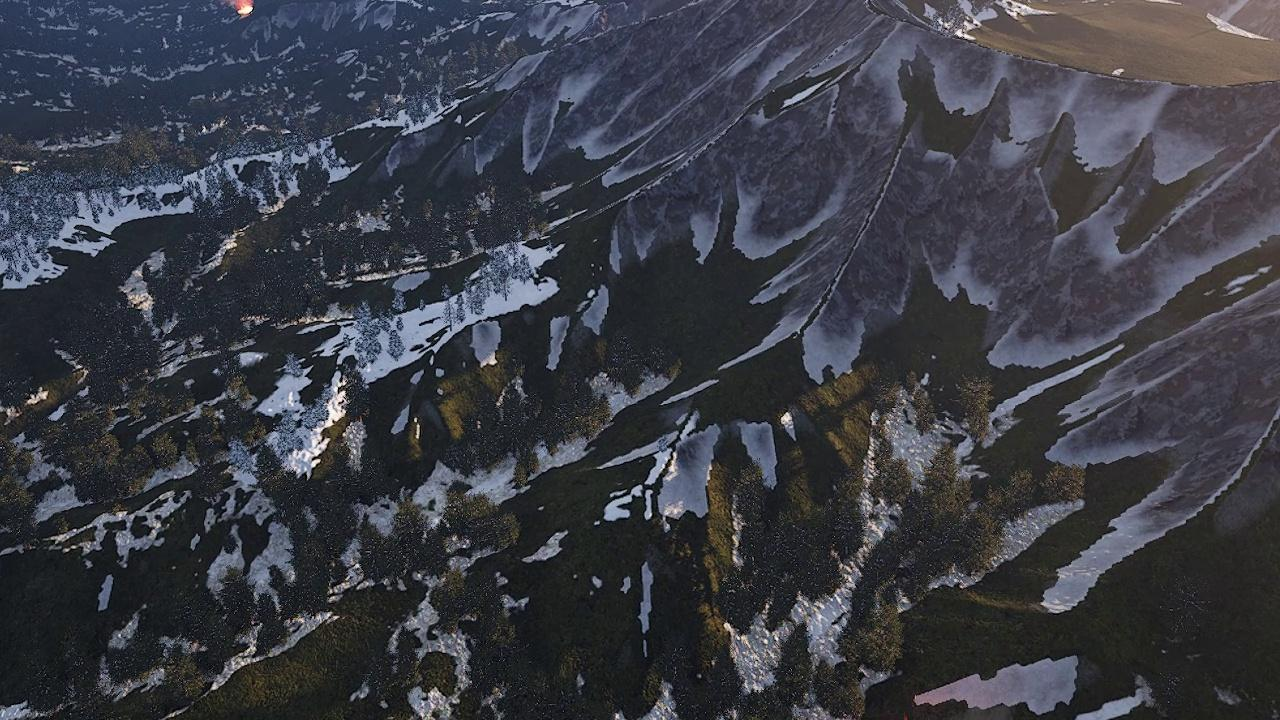fire: (233, 0, 252, 17)
